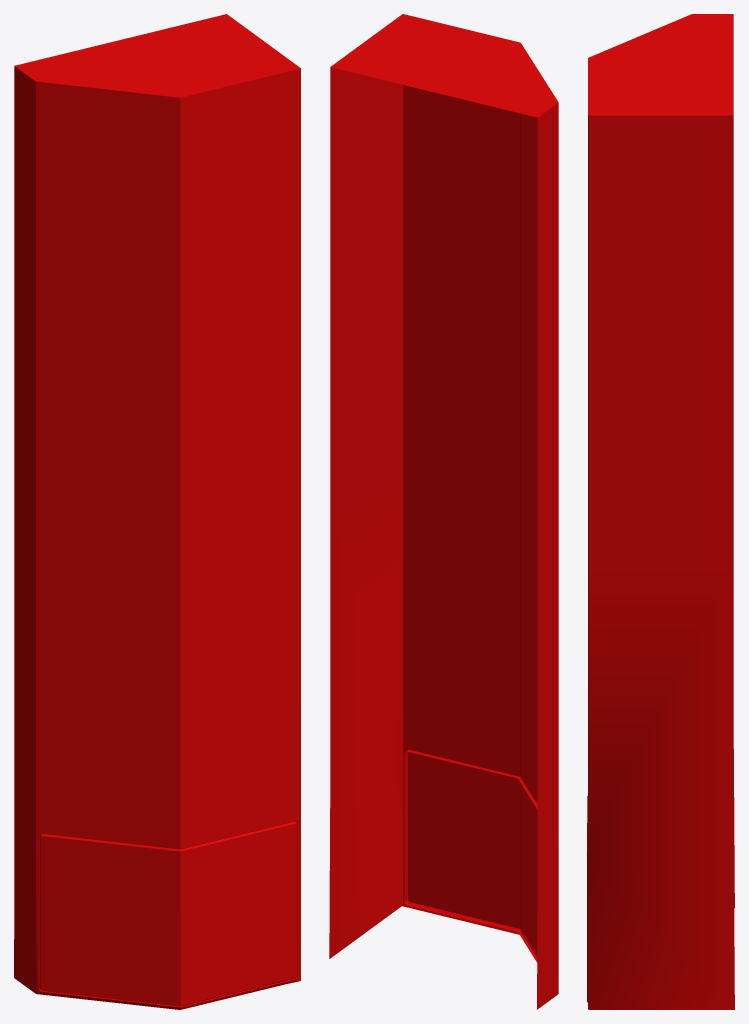
File: Wall_15.fbx
3 renders of one model, left to right at view 1: azimuth 30°, elevation 25°; view 2: azimuth 150°, elevation 25°; view 3: azimuth 270°, elevation 25°, orthographic. The views are drawn at different scales.
Parts seen in each view (by area): view 1: L7:polySurface1; view 2: L7:polySurface1; view 3: L7:polySurface1.
Part boxes in pixels (left/top/right/bottom): L7:polySurface1: left=14, top=14, right=300, bottom=1009; L7:polySurface1: left=329, top=14, right=558, bottom=1009; L7:polySurface1: left=587, top=14, right=734, bottom=1009.
Bounding box in the file's own units: 183 × 751 × 113.
